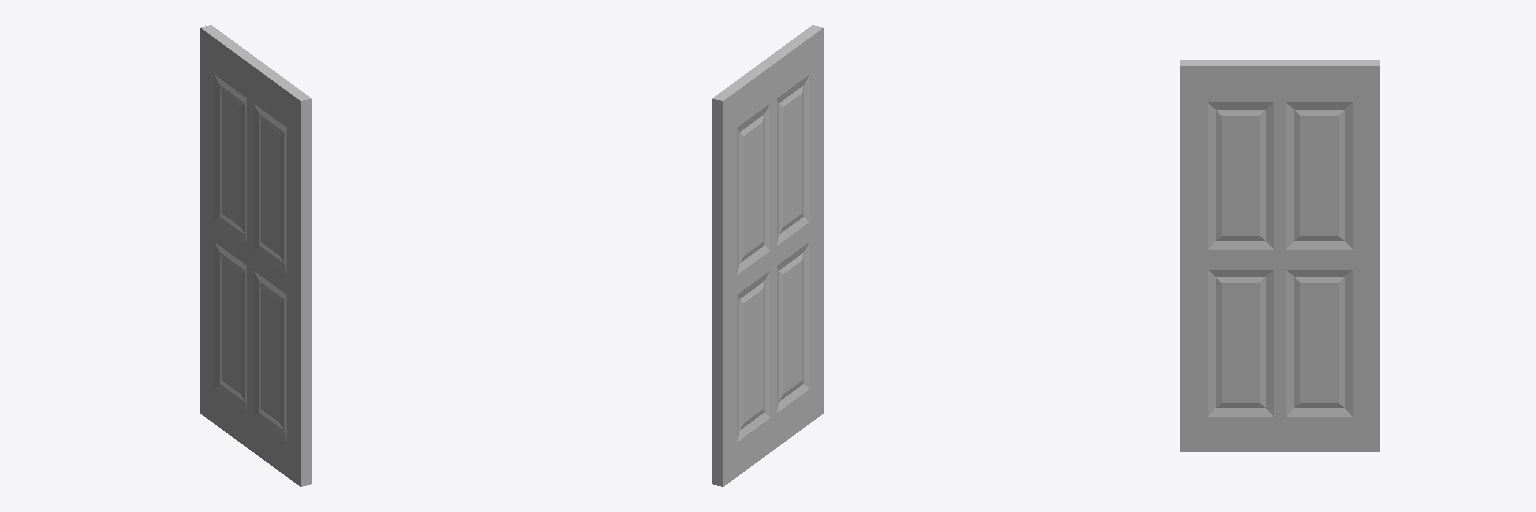
File: door.obj
The picture shows the model from 3 angles: view 1: azimuth 30°, elevation 25°; view 2: azimuth 150°, elevation 25°; view 3: azimuth 270°, elevation 25°; orthographic projection.
Visible parts, largest first — view 1: Cube_Cube.001; view 2: Cube_Cube.001; view 3: Cube_Cube.001.
Boxes of the visible parts, <box> form: Cube_Cube.001: <box>200,25,311,486</box>; Cube_Cube.001: <box>712,25,823,486</box>; Cube_Cube.001: <box>1180,60,1379,451</box>.
Size of the model in its own units: 0.1744 by 5.86 by 2.77.